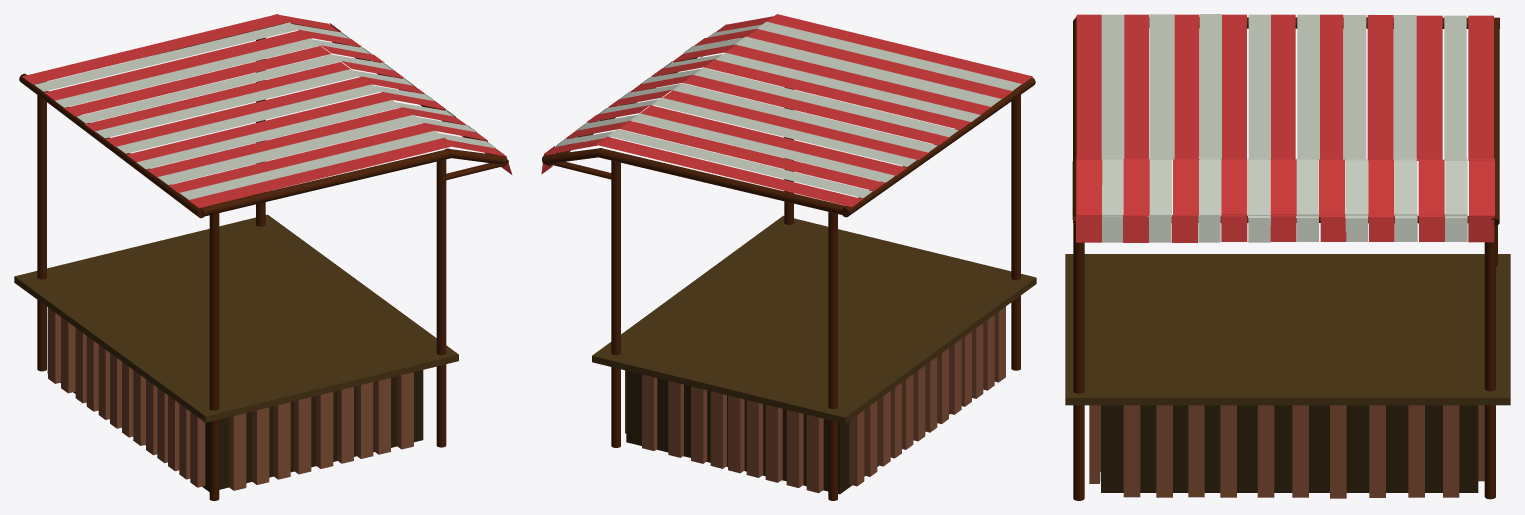
File: Stall_TJ.glb
The picture shows the model from 3 angles, left to right: view 1: azimuth 30°, elevation 25°; view 2: azimuth 150°, elevation 25°; view 3: azimuth 270°, elevation 25°; orthographic projection. The views are drawn at different scales.
Visible parts, largest first — view 1: Cube.001, Cube, Cylinder.001, Cylinder.002, Plane.012, Plane.016, Plane, Plane.014, Plane.003, Plane.008, Plane.006, Plane.002 (+35 smaller); view 2: Cube.001, Cube, Plane.014, Plane.016, Plane.012, Plane.006, Plane.008, Plane.003, Plane.004, Plane.002, Plane, Cylinder (+34 smaller); view 3: Cube.001, Cube, Plane.012, Plane.014, Plane, Plane.003, Plane.016, Plane.004, Plane.006, Plane.008, Plane.002, Plane.010 (+57 smaller).
Part boxes in pixels (left/top/right/bottom): Cube.001: left=14, top=214, right=458, bottom=422; Cube: left=47, top=307, right=423, bottom=491; Cylinder.001: left=209, top=212, right=219, bottom=500; Cylinder.002: left=436, top=159, right=446, bottom=447; Plane.012: left=64, top=46, right=330, bottom=116; Plane.016: left=22, top=14, right=288, bottom=84; Plane: left=188, top=137, right=454, bottom=207; Plane.014: left=44, top=30, right=310, bottom=100; Plane.003: left=157, top=114, right=423, bottom=184; Plane.008: left=105, top=77, right=371, bottom=147; Plane.006: left=126, top=92, right=392, bottom=162; Plane.002: left=168, top=123, right=434, bottom=193; Cube.001: left=592, top=215, right=1036, bottom=423; Cube: left=626, top=370, right=949, bottom=494; Plane.014: left=618, top=120, right=884, bottom=190; Plane.016: left=596, top=136, right=862, bottom=207; Plane.012: left=640, top=105, right=906, bottom=175; Plane.006: left=704, top=59, right=970, bottom=129; Plane.008: left=683, top=75, right=949, bottom=145; Plane.003: left=735, top=36, right=1001, bottom=106; Plane.004: left=724, top=45, right=990, bottom=114; Plane.002: left=746, top=29, right=1012, bottom=98; Plane: left=767, top=14, right=1032, bottom=84; Cylinder: left=828, top=212, right=837, bottom=500; Cube.001: left=1065, top=254, right=1510, bottom=405; Cube: left=1101, top=405, right=1478, bottom=492; Plane.012: left=1367, top=15, right=1393, bottom=160; Plane.014: left=1416, top=15, right=1442, bottom=160; Plane: left=1076, top=14, right=1102, bottom=159; Plane.003: left=1149, top=14, right=1174, bottom=159; Plane.016: left=1468, top=15, right=1493, bottom=160; Plane.004: left=1174, top=14, right=1199, bottom=159; Plane.006: left=1221, top=14, right=1246, bottom=159; Plane.008: left=1270, top=14, right=1295, bottom=159; Plane.002: left=1123, top=14, right=1148, bottom=159; Plane.010: left=1318, top=14, right=1343, bottom=159.
Bounding box in the file's own units: 7.76 × 6.99 × 8.13.
Materials: 8 (8 with a texture image).
